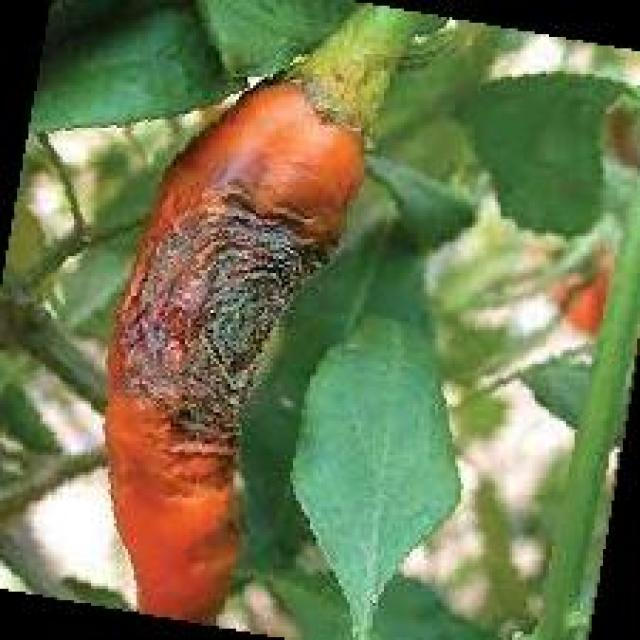Moko: (134, 114, 298, 487)
